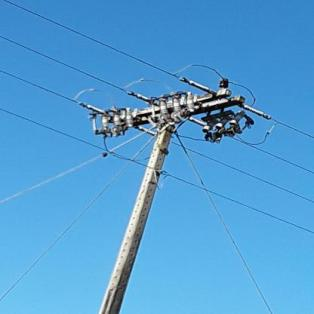Poste: (94, 93, 184, 314)
